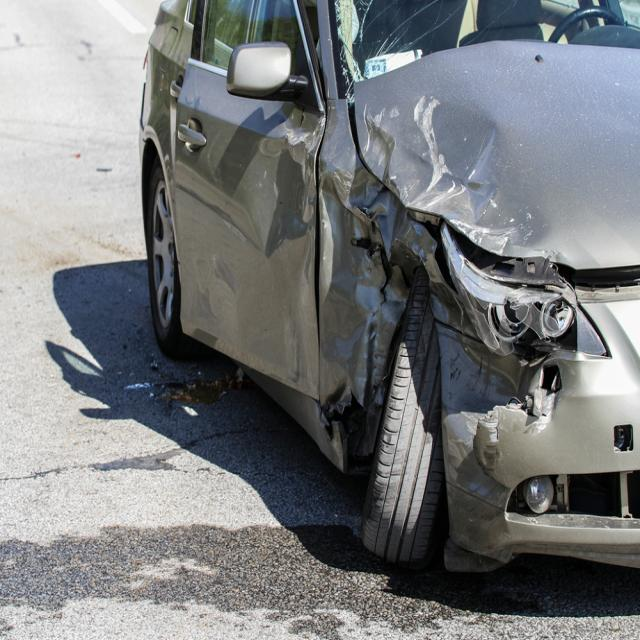crack: (373, 225, 411, 303)
dent: (314, 152, 433, 411), (356, 104, 556, 257), (432, 282, 520, 416), (259, 107, 323, 287)
glass shatter: (334, 0, 640, 98)
lamp broken: (443, 225, 611, 360)
